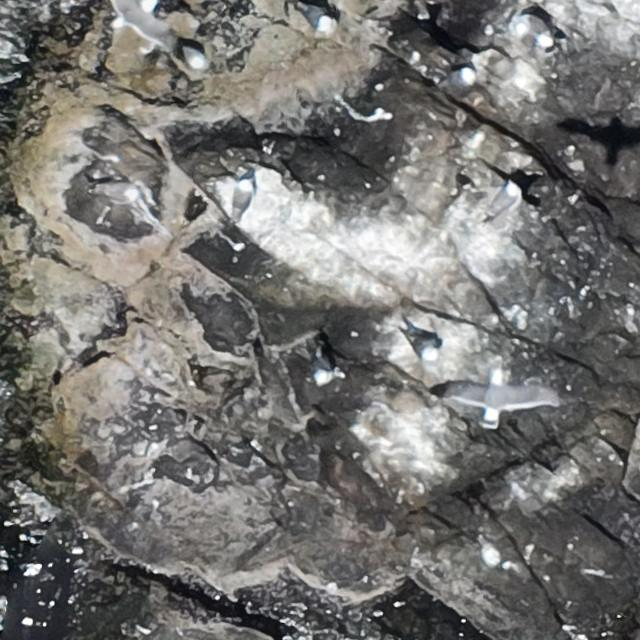F: (441, 369, 562, 425), (109, 0, 170, 49)
umineko: (404, 327, 441, 362), (91, 180, 139, 202), (435, 67, 474, 91), (300, 3, 330, 30), (492, 183, 518, 214), (311, 353, 331, 383), (183, 47, 207, 70), (234, 179, 251, 211)
